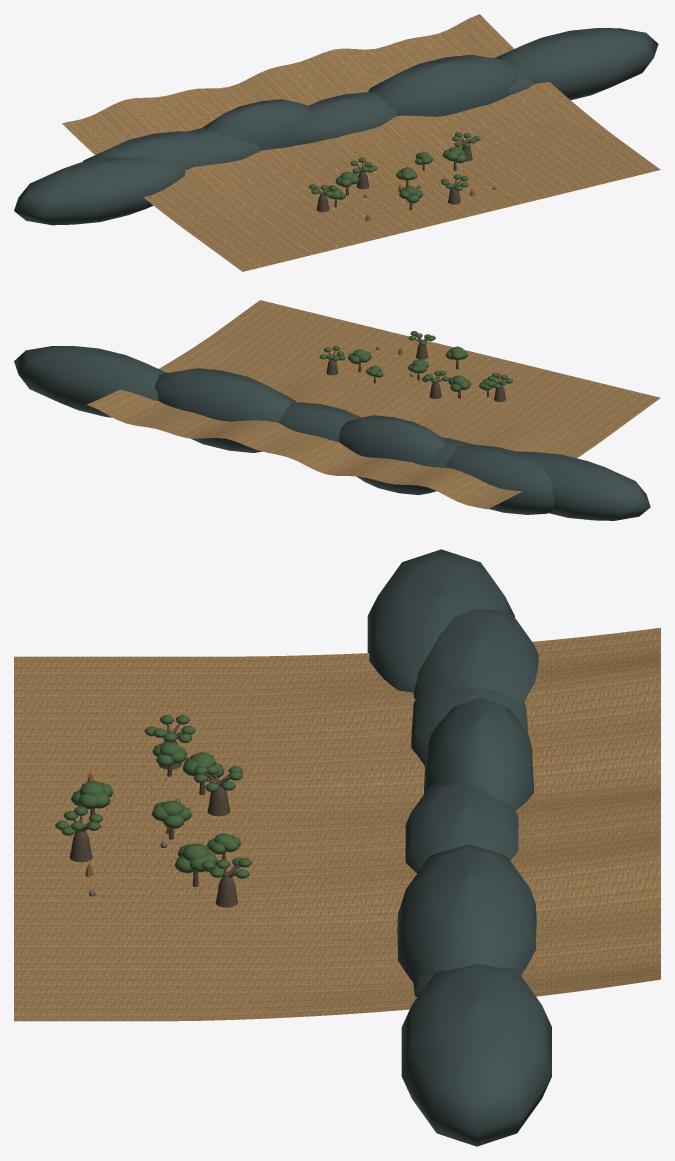
Rendered from course.glb.
The picture shows the model from 3 angles, top to bottom: view 1: azimuth 30°, elevation 25°; view 2: azimuth 150°, elevation 25°; view 3: azimuth 270°, elevation 25°; orthographic projection. The views are drawn at different scales.
Parts seen in each view (by area): view 1: sol, decor, defile; view 2: sol, decor, defile; view 3: sol, decor, defile.
Part boxes in pixels (x1,y1,x2,y2): sol: (62,14,660,271); decor: (14,28,658,225); defile: (309,132,508,221); sol: (87,300,660,509); decor: (14,346,650,520); defile: (319,331,512,402); sol: (14,627,660,1021); decor: (367,549,551,1146); defile: (55,715,251,909).
Bounding box in the file's own units: 188 × 19.8 × 90.
Materials: 7 (1 with a texture image).
